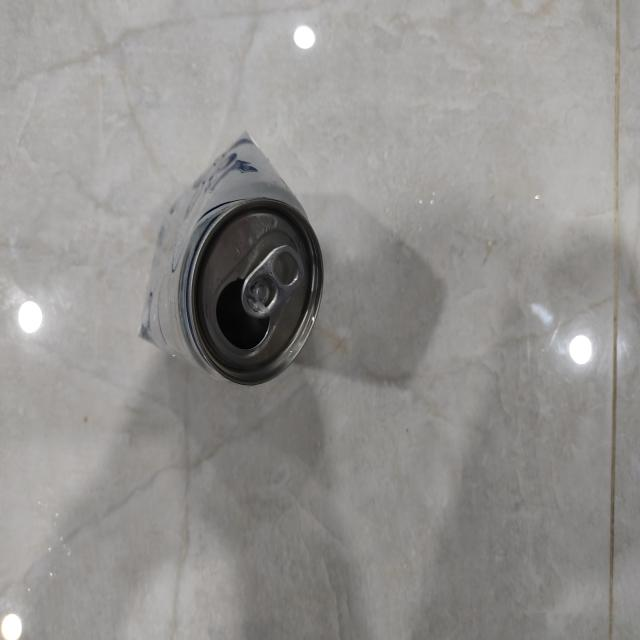kim_loai: (139, 132, 323, 385)
